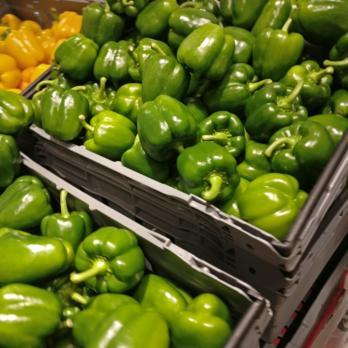Capsicum: (78, 0, 348, 155), (0, 210, 127, 348), (0, 2, 91, 140), (112, 284, 229, 348)
